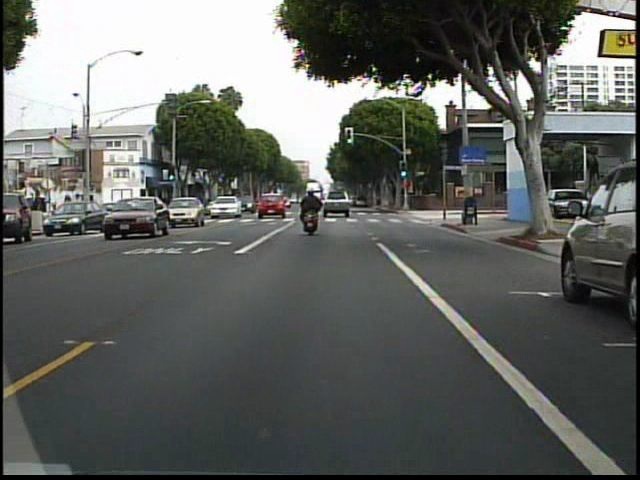person: (297, 184, 326, 241)
